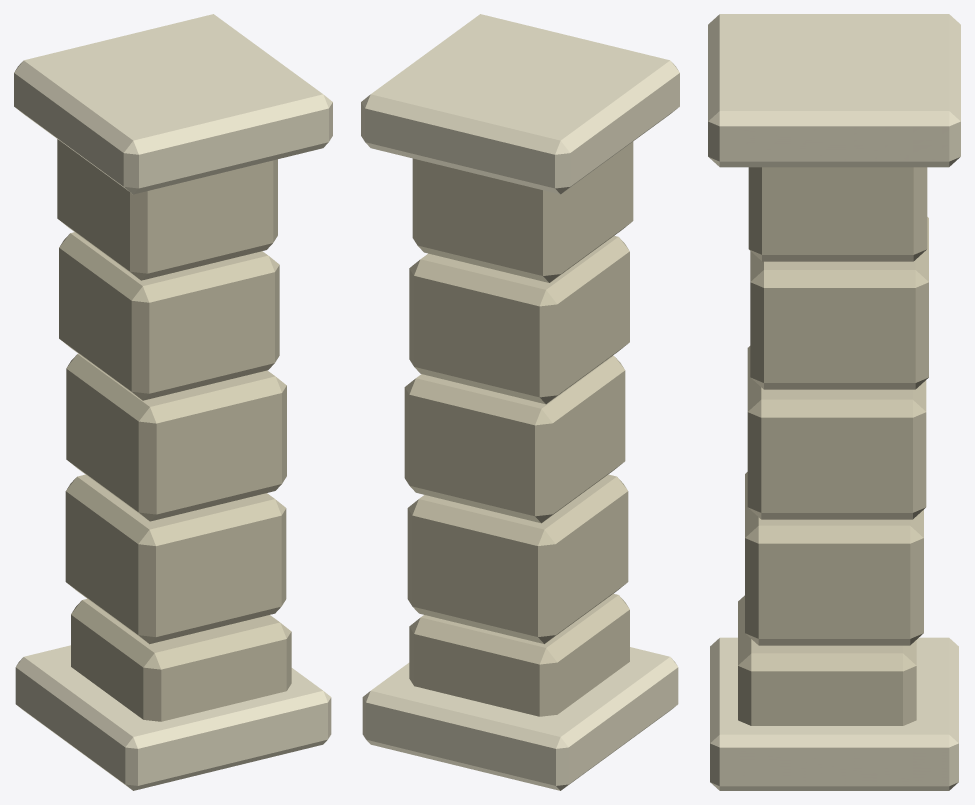
File: pillar.glb
3 renders of one model, left to right at view 1: azimuth 30°, elevation 25°; view 2: azimuth 150°, elevation 25°; view 3: azimuth 270°, elevation 25°, orthographic. The views are drawn at different scales.
Parts seen in each view (by area): view 1: pillar; view 2: pillar; view 3: pillar.
Part boxes in pixels (left/top/right/bottom): pillar: left=14, top=14, right=332, bottom=790; pillar: left=361, top=14, right=679, bottom=790; pillar: left=708, top=14, right=960, bottom=790.
Bounding box in the file's own units: 0.65 × 1.93 × 0.65.
